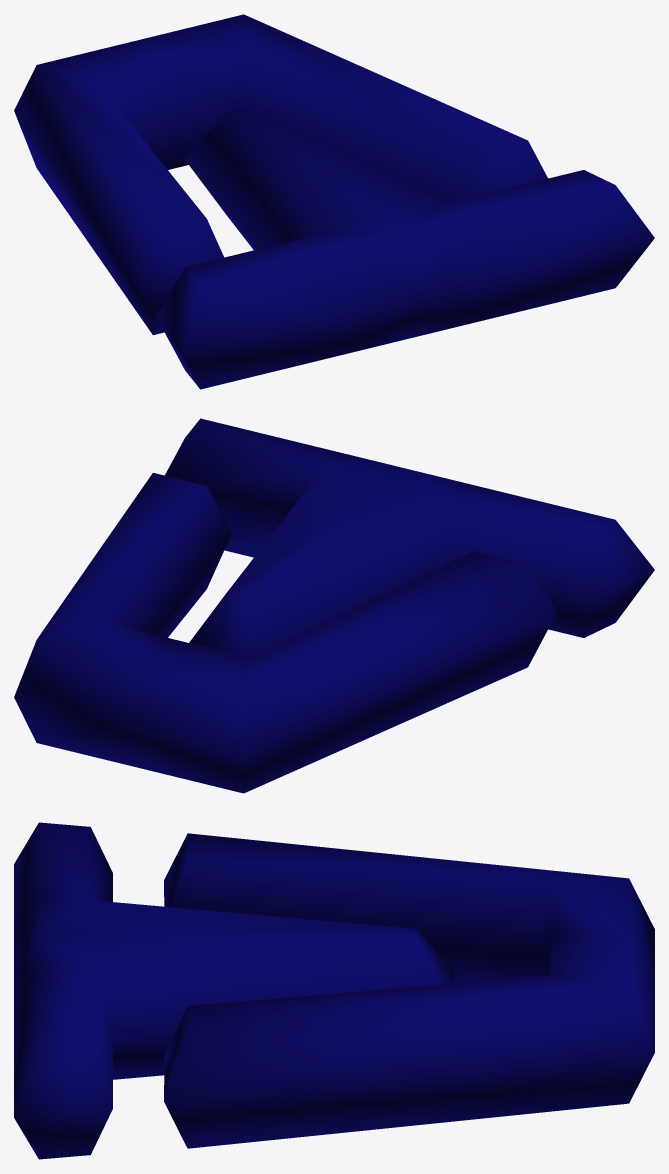
Rendered from flag_blue.fbx.
3 renders of one model, top to bottom at view 1: azimuth 30°, elevation 25°; view 2: azimuth 150°, elevation 25°; view 3: azimuth 270°, elevation 25°, orthographic. The views are drawn at different scales.
Parts seen in each view (by area): view 1: FlagT, FlagV; view 2: FlagV, FlagT; view 3: FlagV, FlagT.
Boxes of the visible parts, <box> form: FlagT: <box>156,108,654,389</box>; FlagV: <box>14,14,547,335</box>; FlagV: <box>14,473,556,793</box>; FlagT: <box>165,418,654,658</box>; FlagV: <box>164,833,654,1148</box>; FlagT: <box>14,822,454,1159</box>.
Bounding box in the file's own units: 58.5 × 12.24 × 62.51.
Materials: 1 (1 with a texture image).
